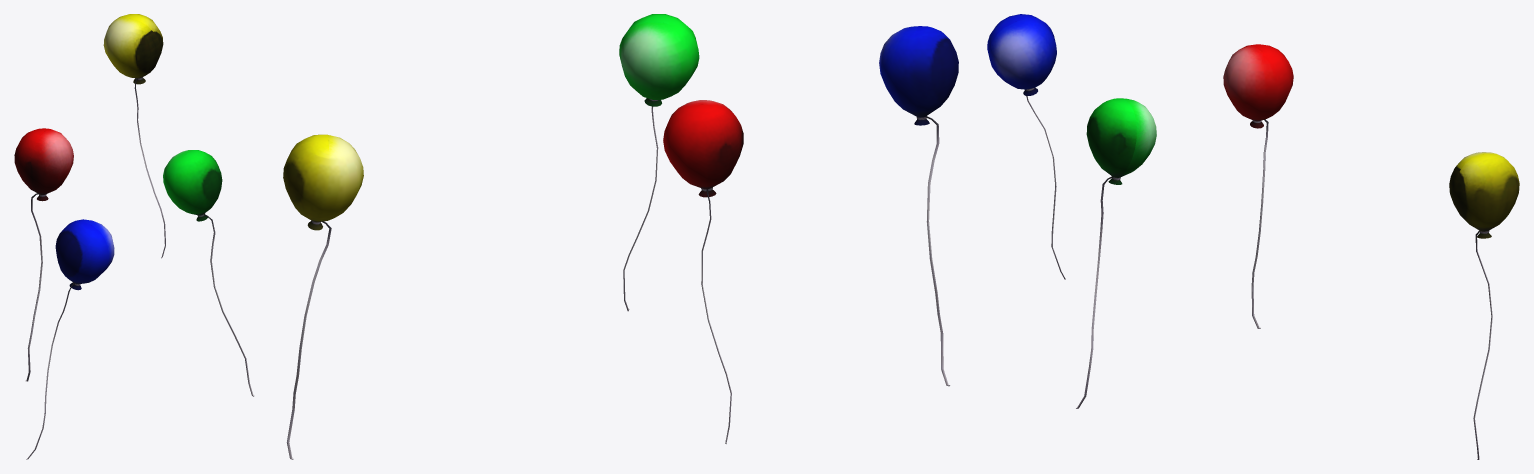
The model's file is rainbow balloons.glb.
3 renders of one model, left to right at view 1: azimuth 30°, elevation 25°; view 2: azimuth 150°, elevation 25°; view 3: azimuth 270°, elevation 25°, orthographic. The views are drawn at different scales.
Parts seen in each view (by area): view 1: balloonz; view 2: balloonz; view 3: balloonz.
Boxes of the visible parts, box(x1,y1,x2,y2) form: balloonz: box(14, 14, 253, 459); balloonz: box(283, 14, 958, 459); balloonz: box(987, 14, 1519, 459).
Size of the model in its own units: 6.42 by 4.79 by 7.96.
Materials: 1 (1 with a texture image).
